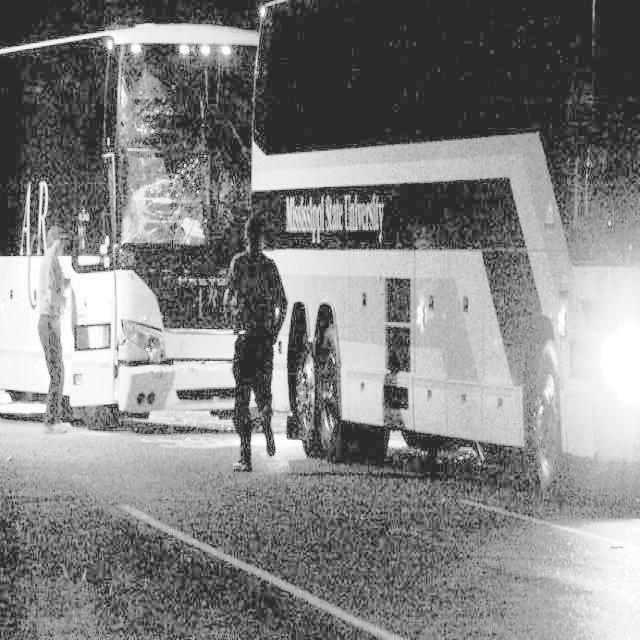Bus: (245, 0, 640, 477), (0, 6, 255, 405)
